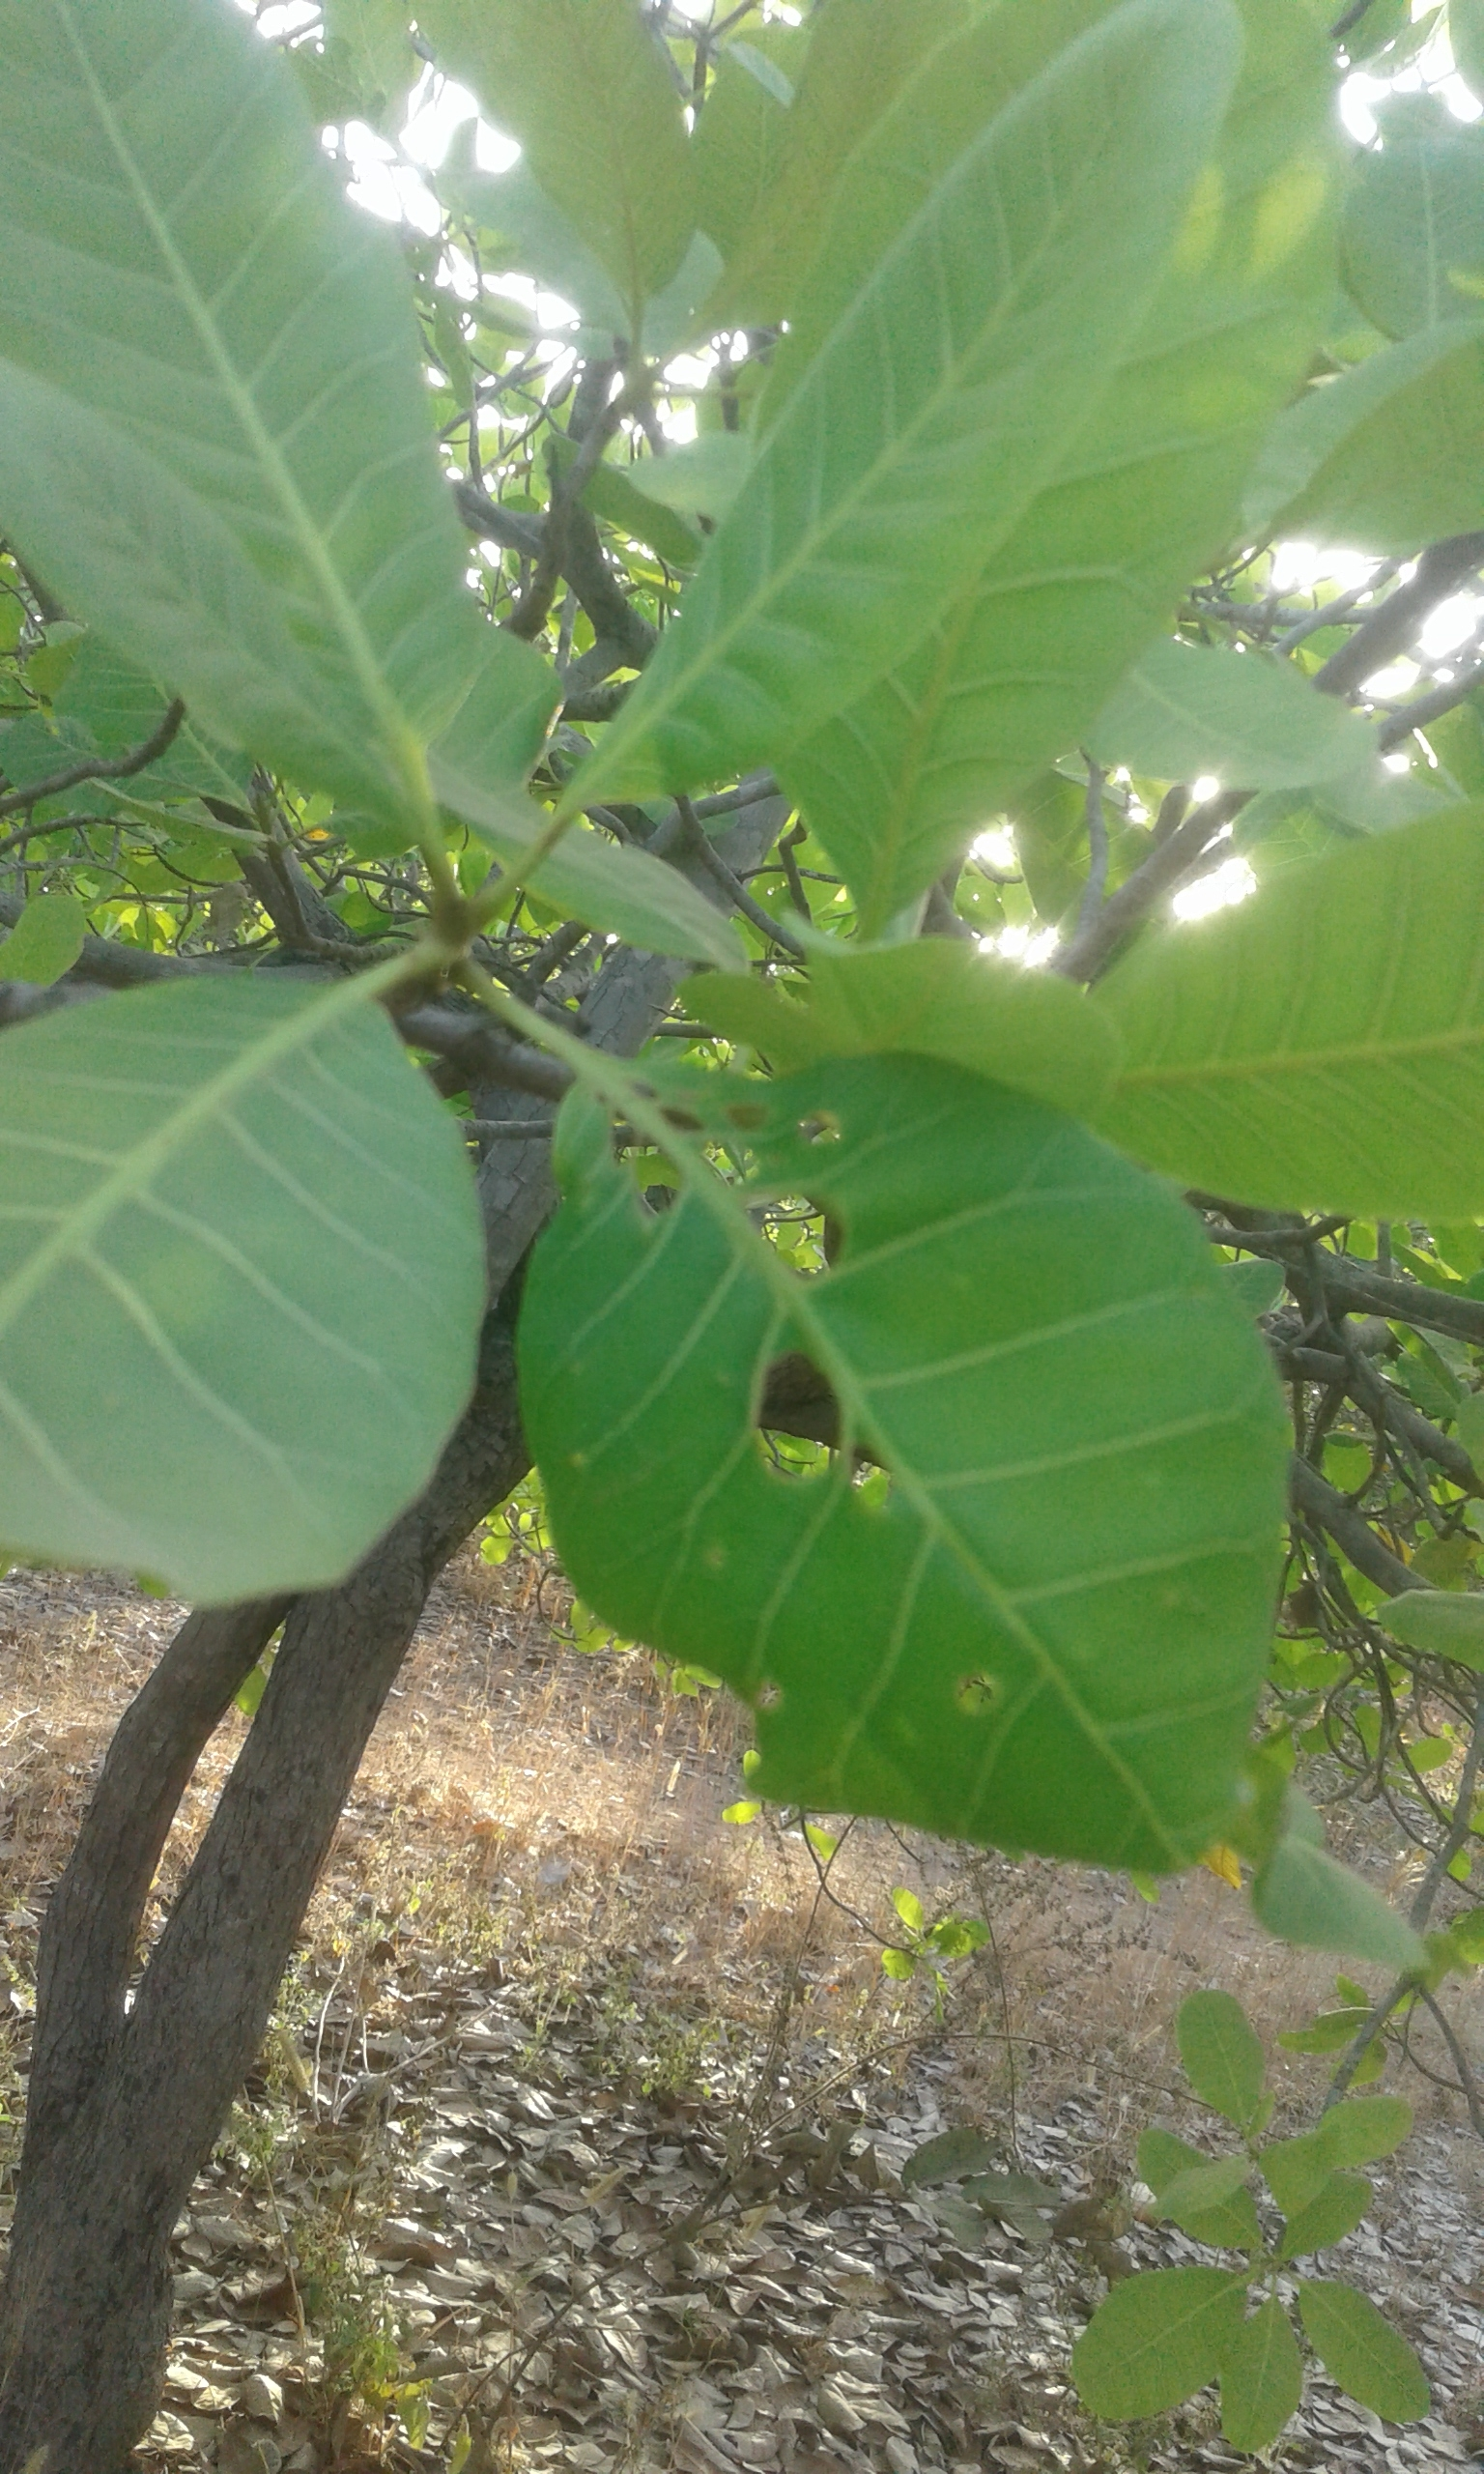Anoplonemis curvipes: (537, 1039, 1272, 1891)
